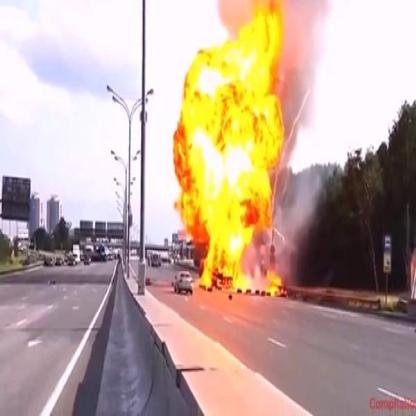fire: (173, 0, 300, 298)
